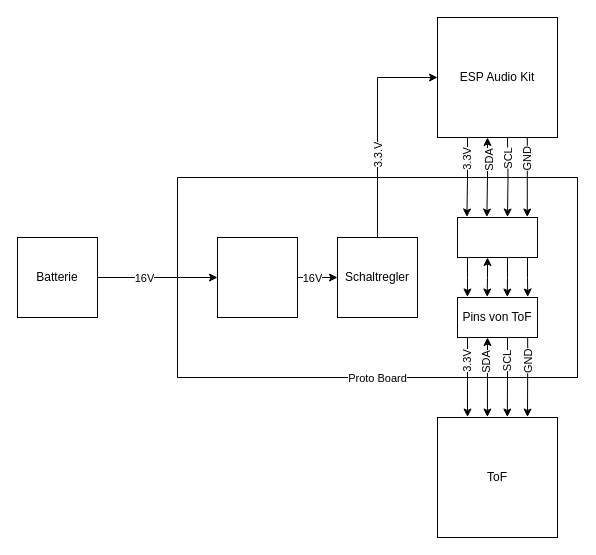
The diagram is 596 pixels wide and 555 high, and some of its shapes have lost their labels. Each missing label, with the box of its shape:
Pins von ESP: (456, 216, 538, 258)
Schalter: (216, 236, 298, 318)
